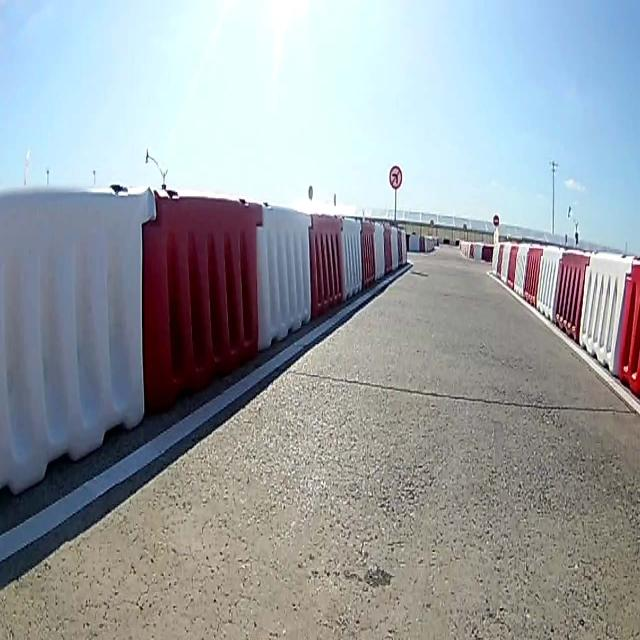soladonulmez: (388, 165, 403, 188)
